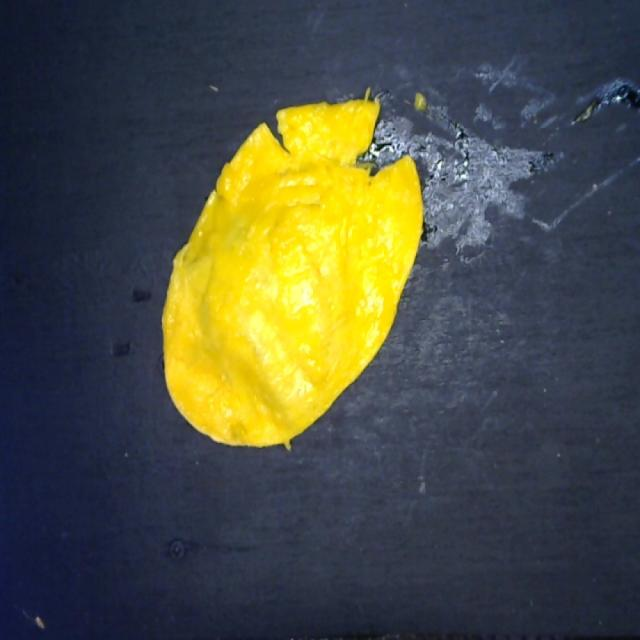biodegradable: (154, 86, 432, 454)
